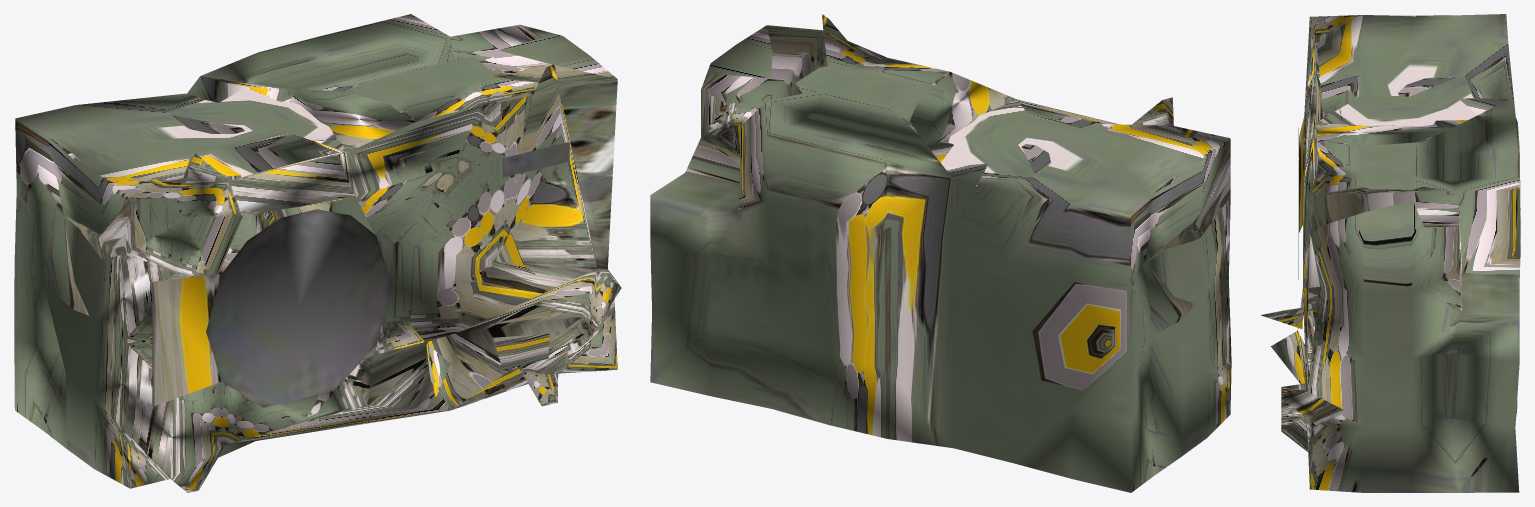
The model's file is panel-spacecraft.lite.160181b7.glb.
3 renders of one model, left to right at view 1: azimuth 30°, elevation 25°; view 2: azimuth 150°, elevation 25°; view 3: azimuth 270°, elevation 25°, orthographic. The views are drawn at different scales.
Parts seen in each view (by area): view 1: model; view 2: model; view 3: model.
Boxes of the visible parts, x1,y1,x2,y2 form: model: [14, 14, 621, 492]; model: [650, 14, 1231, 492]; model: [1261, 14, 1520, 492].
Size of the model in its own units: 0.4056 by 0.2623 by 0.2044.
2 materials, 2 textured.
